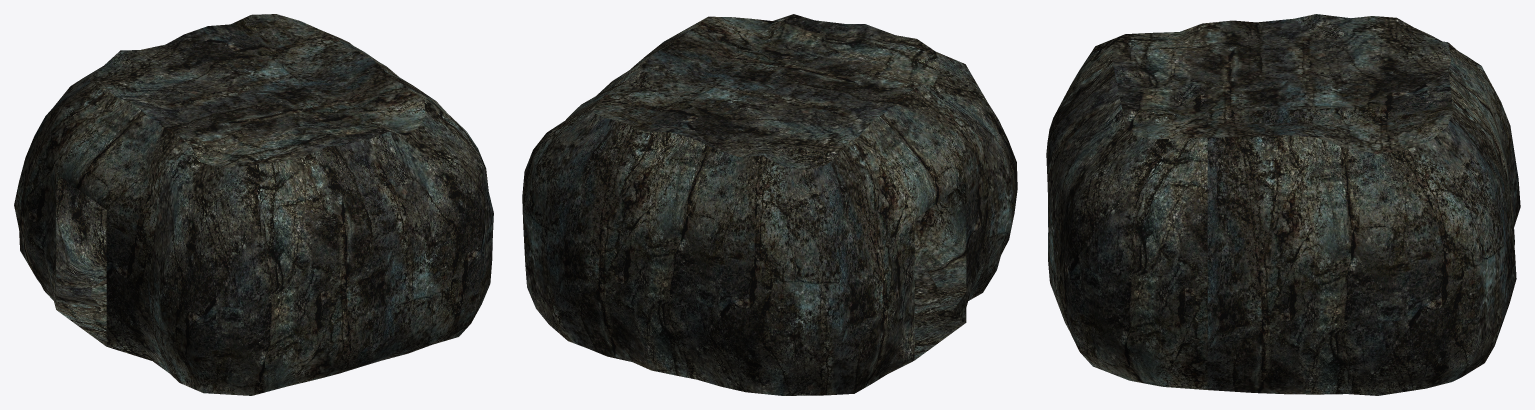
Rendered from tunnel_theta_room_square_small.dae.
3 renders of one model, left to right at view 1: azimuth 30°, elevation 25°; view 2: azimuth 150°, elevation 25°; view 3: azimuth 270°, elevation 25°, orthographic. The views are drawn at different scales.
Parts seen in each view (by area): view 1: small_room01; view 2: small_room01; view 3: small_room01.
Boxes of the visible parts, x1,y1,x2,y2 form: small_room01: [14, 14, 493, 395]; small_room01: [522, 14, 1017, 395]; small_room01: [1046, 14, 1520, 395].
Bounding box in the file's own units: 8.2 × 5 × 8.62.
